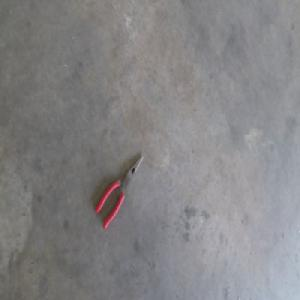Pliers: (95, 152, 142, 225)
